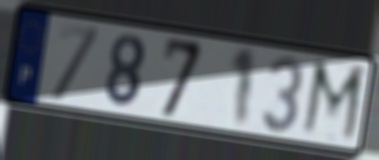1: (227, 46, 256, 132)
3: (259, 52, 305, 137)
7: (49, 20, 100, 103), (160, 34, 205, 121)
8: (104, 33, 147, 109)
M: (297, 56, 369, 149)
